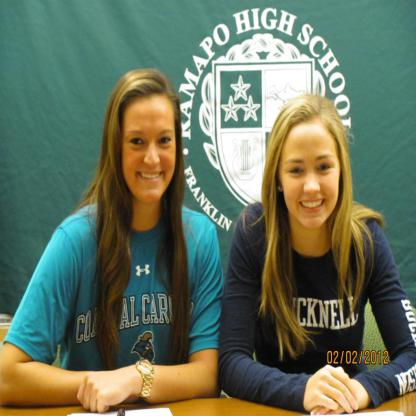face: (280, 125, 342, 230), (122, 101, 175, 204)
